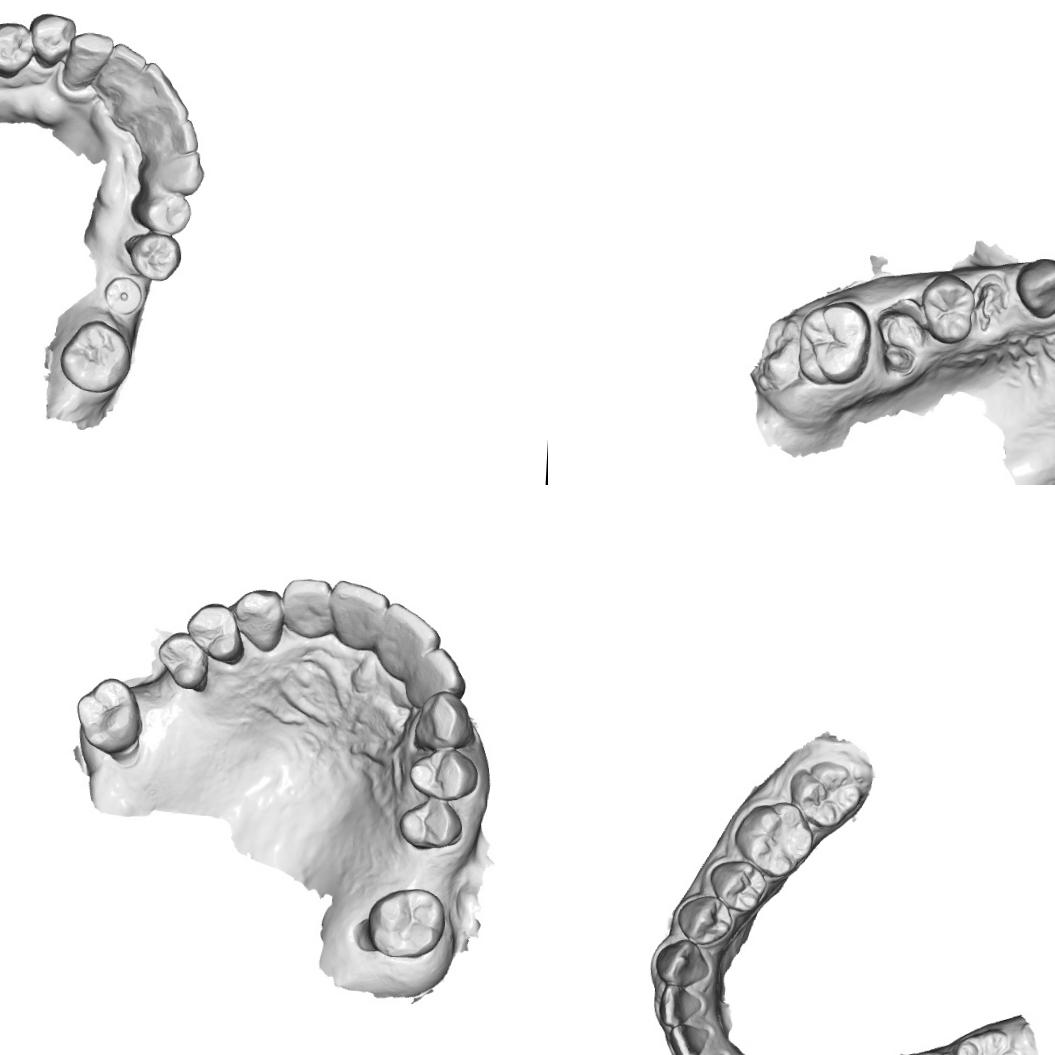canine: (409, 686, 474, 757), (230, 587, 286, 652), (60, 30, 115, 93), (134, 148, 206, 196), (1011, 253, 1055, 321), (654, 937, 711, 989)
implant: (100, 274, 144, 316)
incisor: (374, 600, 443, 683), (327, 578, 390, 652), (402, 642, 467, 708), (90, 42, 148, 102), (278, 576, 332, 639), (656, 982, 704, 1030), (134, 60, 178, 106), (158, 116, 201, 156), (666, 1022, 710, 1055), (156, 88, 190, 126)
molar: (793, 298, 874, 389), (363, 883, 444, 965), (731, 799, 815, 878), (52, 320, 138, 396), (72, 674, 144, 757), (786, 758, 864, 830), (950, 1024, 1020, 1055)
premolar: (918, 272, 978, 346), (406, 744, 480, 802), (182, 601, 246, 666), (396, 796, 466, 852), (154, 628, 210, 692), (706, 857, 768, 914), (120, 230, 183, 282), (674, 892, 734, 946), (128, 186, 192, 236), (25, 11, 77, 70), (0, 19, 36, 80)
